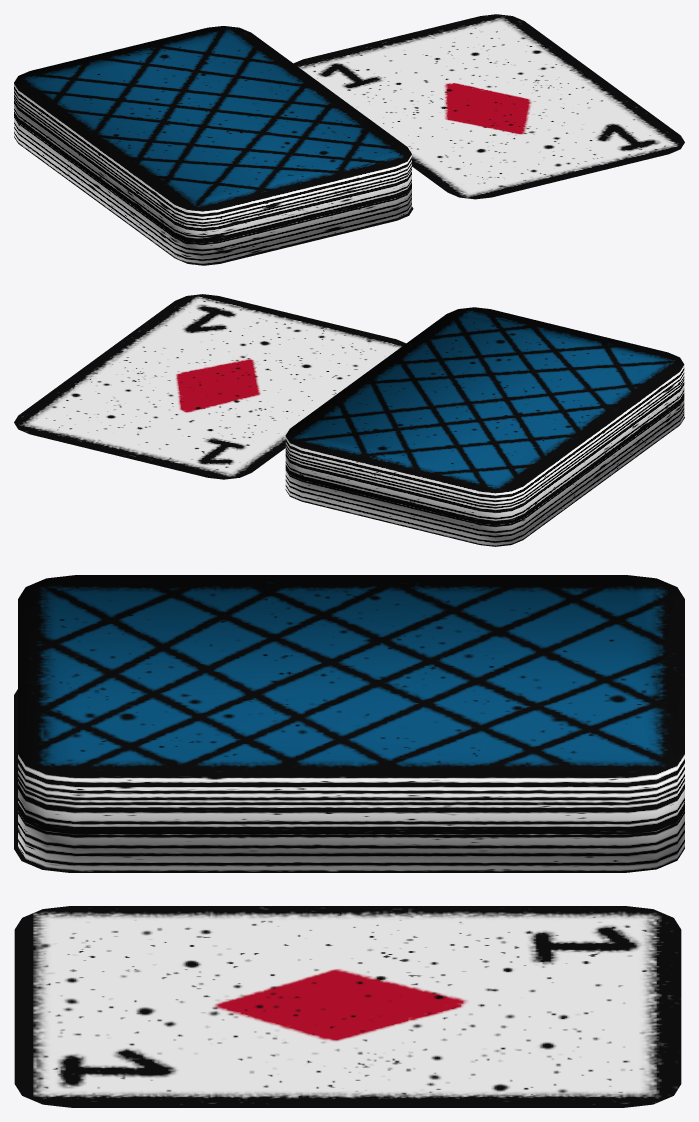
The model's file is Rock.gltf.
3 views of the same model, one above another, from view 1: azimuth 30°, elevation 25°; view 2: azimuth 150°, elevation 25°; view 3: azimuth 270°, elevation 25° (orthographic). The views are drawn at different scales.
Visible parts, largest first — view 1: Cube, Cube.001; view 2: Cube; view 3: Cube, Cube.001.
Part boxes in pixels (x1,y1,x2,y2): Cube: [14, 14, 684, 264]; Cube.001: [177, 207, 413, 265]; Cube: [14, 294, 684, 546]; Cube: [14, 575, 684, 1107]; Cube.001: [14, 689, 626, 872].
Bounding box in the file's own units: 4.54 × 0.4666 × 2.95.
1 material, 1 textured.
